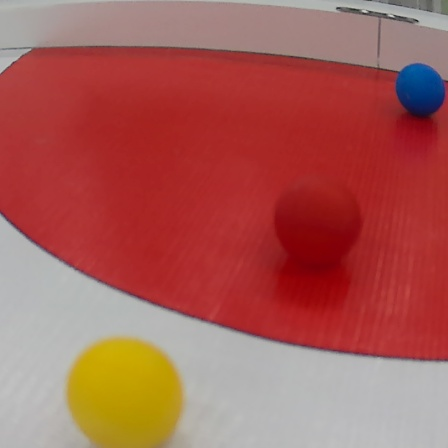blue: (395, 63, 445, 115)
red: (270, 178, 367, 275)
red_base: (0, 42, 445, 369)
yellow: (64, 332, 187, 448)
